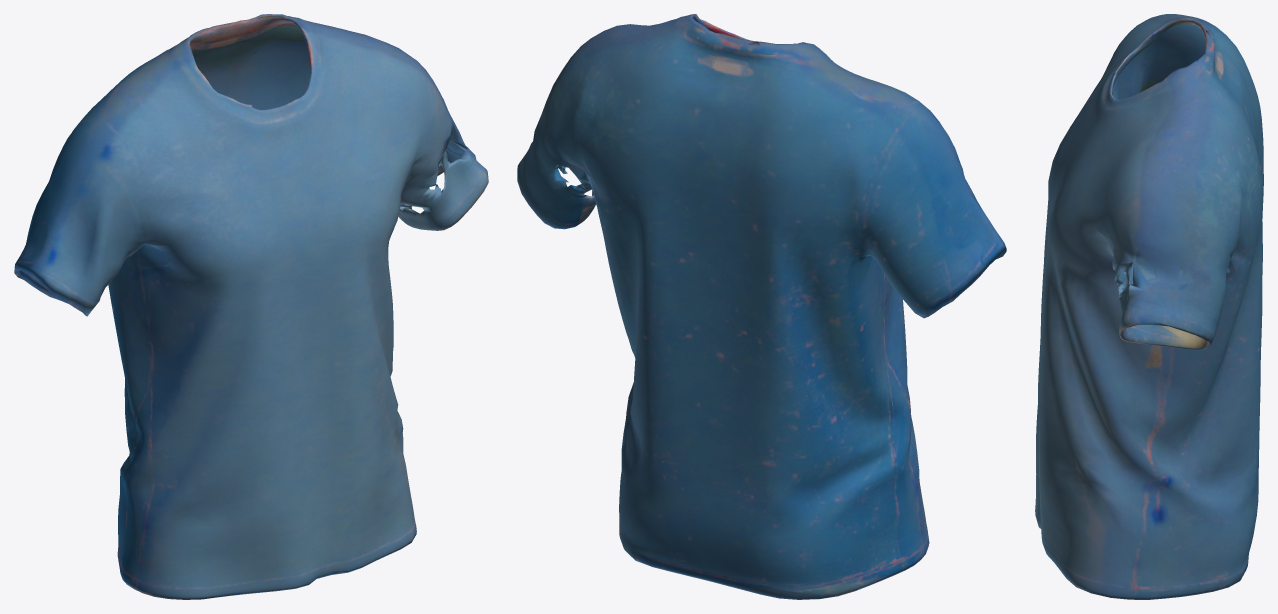
3 views of the same model, side by side, from view 1: azimuth 30°, elevation 25°; view 2: azimuth 150°, elevation 25°; view 3: azimuth 270°, elevation 25° (orthographic). The views are drawn at different scales.
Parts seen in each view (by area): view 1: file1; view 2: file1; view 3: file1.
Part boxes in pixels (x1,y1,x2,y2): file1: [14, 14, 488, 599]; file1: [517, 14, 1006, 599]; file1: [1035, 14, 1263, 599].
Size of the model in its own units: 1.83 by 1.99 by 0.8168.
Materials: 1 (1 with a texture image).
